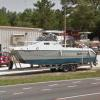Boat: (14, 31, 100, 80)
